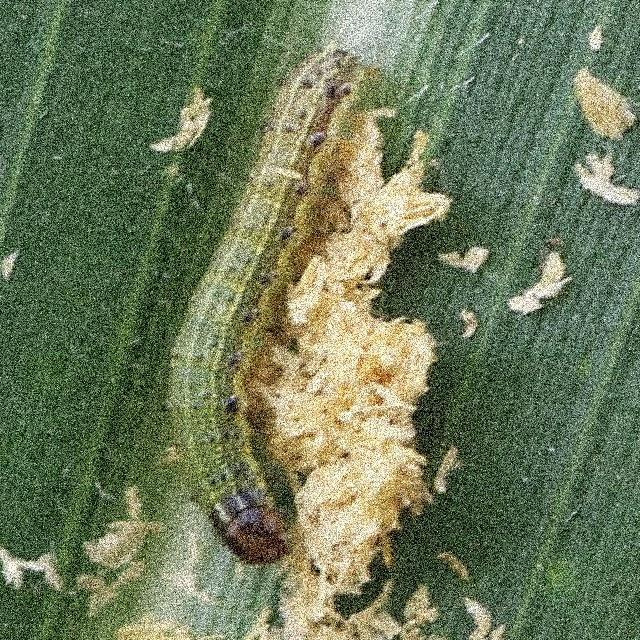Plaga: (165, 42, 376, 570)
